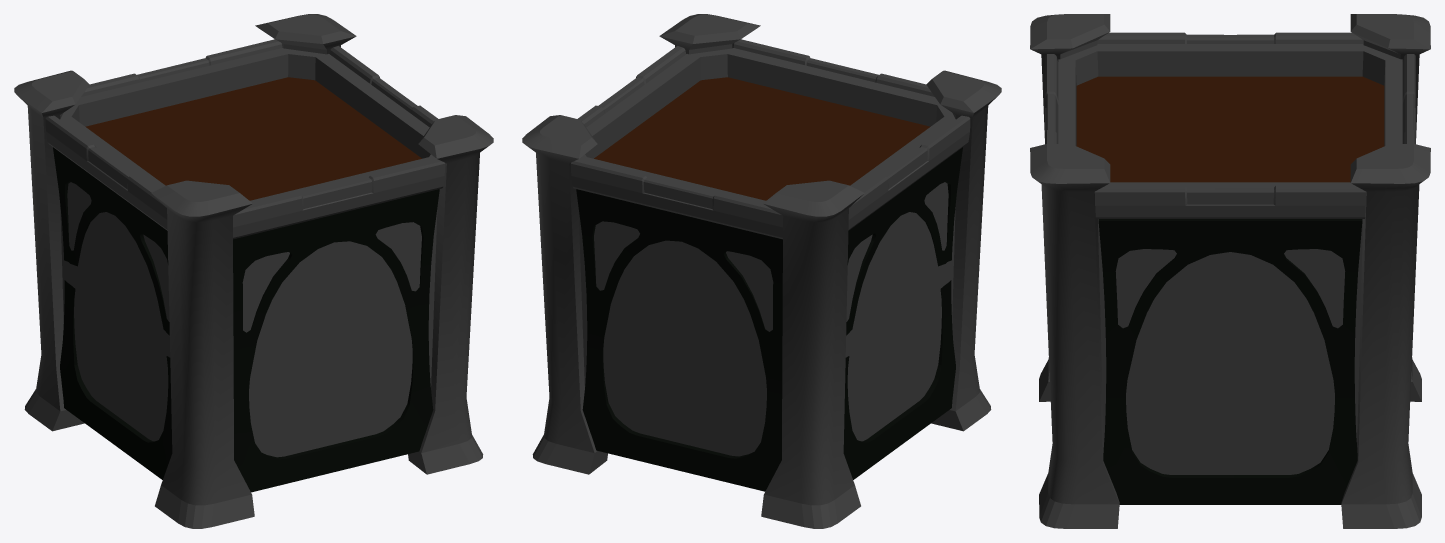
File: S_flowerpot.fbx
3 renders of one model, left to right at view 1: azimuth 30°, elevation 25°; view 2: azimuth 150°, elevation 25°; view 3: azimuth 270°, elevation 25°, orthographic. The views are drawn at different scales.
Visible parts, largest first — view 1: S_Flowerpot; view 2: S_Flowerpot; view 3: S_Flowerpot.
Part boxes in pixels (x1,y1,x2,y2): S_Flowerpot: (14,14,493,528); S_Flowerpot: (522,14,1001,528); S_Flowerpot: (1030,14,1430,528).
Size of what is drawn, in the model's own units: 108 by 106 by 108.
